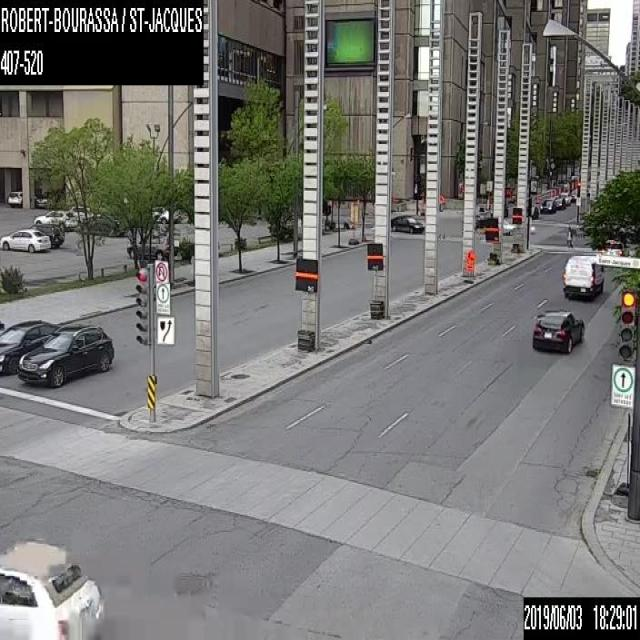construction: (462, 249, 472, 280)
pedestrian: (565, 225, 572, 248)
vehicle: (0, 546, 106, 638), (18, 324, 112, 387), (0, 320, 58, 376), (532, 308, 584, 351), (561, 252, 603, 300), (126, 230, 180, 258), (0, 228, 50, 251), (32, 209, 78, 231), (27, 222, 64, 246), (390, 212, 422, 232), (7, 190, 38, 208), (150, 204, 177, 223), (34, 190, 57, 207), (539, 199, 556, 213), (502, 218, 514, 233), (558, 192, 570, 204), (553, 195, 564, 208), (530, 204, 537, 218)
